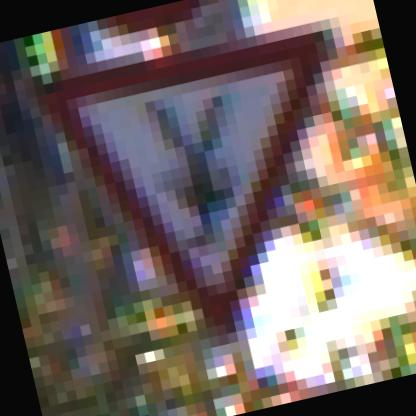crosswalk: (33, 0, 396, 350)
